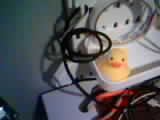duck: (87, 42, 143, 85)
